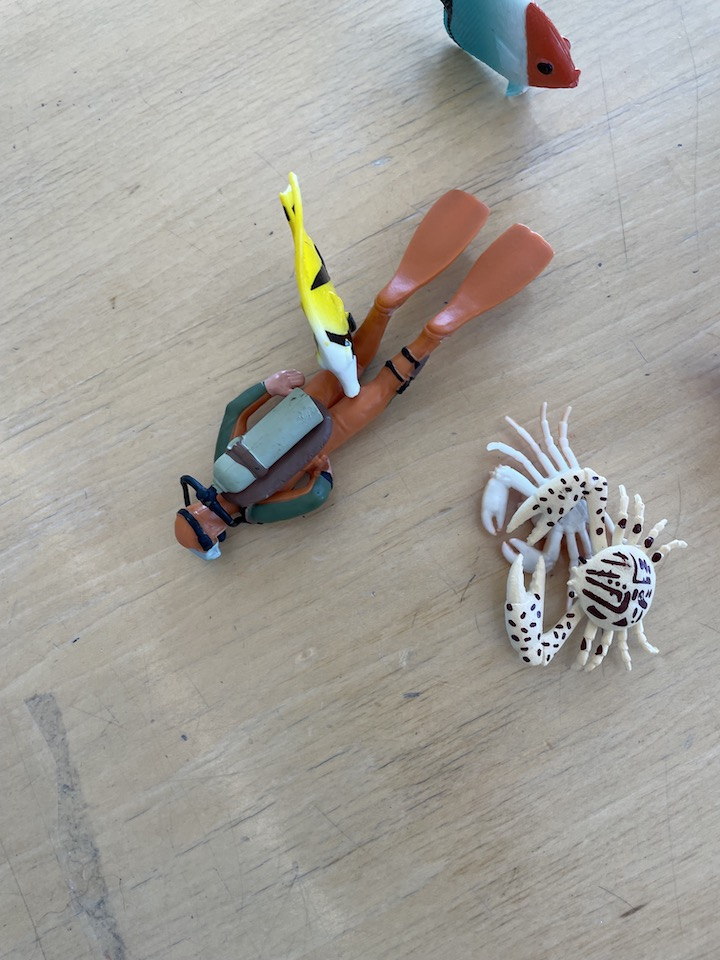crab: (503, 462, 689, 677), (478, 399, 624, 588)
danger: (274, 169, 366, 401)
diver: (171, 182, 560, 564)
fish: (435, 1, 584, 100)
